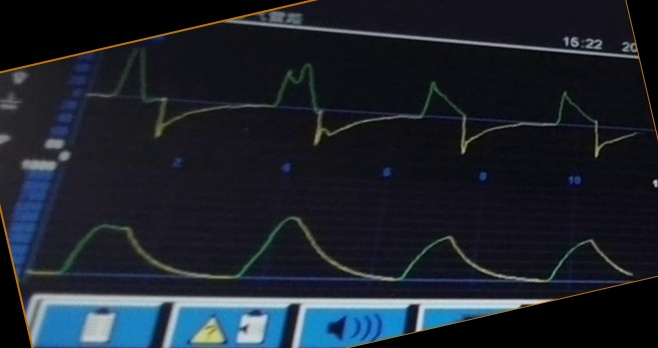Double_Triggering Flow: (89, 46, 635, 158)
Double_Triggering Volume: (34, 214, 632, 288)
